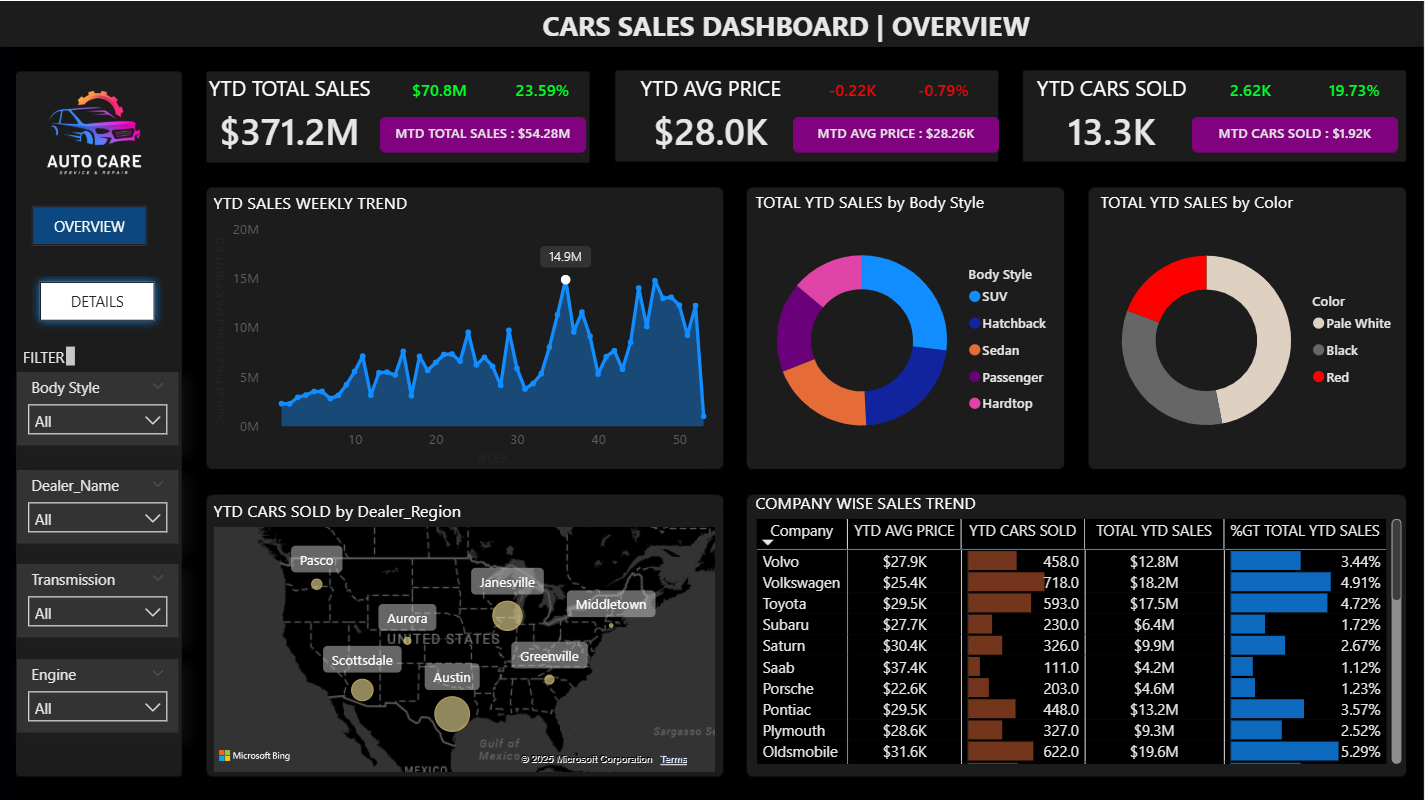

The page's visual inventory and layout, read from the dashboard file:
{"tool":"powerbi","page":{"name":"OVERVIEW","canvas":[1280,720],"ordinal":0},"visuals":[{"type":"card","title":"YTD TOTAL SALES","fields":{"Values":["MEASURES_.TOTAL YTD SALES"]},"box":[173.1,65.2,177,77.8],"z":0},{"type":"card","fields":{"Values":["MEASURES_.SALES DIFFERENCE"]},"box":[343.3,59.3,107,44.7],"z":1000},{"type":"card","fields":{"Values":["MEASURES_.YOY SALES GROWTH"]},"box":[435.7,59.3,107,44.7],"z":2000},{"type":"card","fields":{"Values":["MEASURES_.MTD KPI"]},"box":[343.3,104.1,184.8,32.1],"z":3000},{"type":"card","title":"YTD AVG PRICE","fields":{"Values":["MEASURES_.YTD AVG PRICE"]},"box":[551.5,65.2,177,77.8],"z":4000},{"type":"card","fields":{"Values":["MEASURES_.AVG PRICE DIFFERENCE"]},"box":[713.9,59.3,107,44.7],"z":5000},{"type":"card","fields":{"Values":["MEASURES_.YOY AVG PRICE GROWTH"]},"box":[795.6,59.3,107,44.7],"z":6000},{"type":"card","fields":{"Values":["MEASURES_.MTD AVG PRICE KPI"]},"box":[713.9,104.1,184.8,32.1],"z":7000},{"type":"card","title":"YTD CARS SOLD","fields":{"Values":["MEASURES_.YTD CARS SOLD"]},"box":[911.4,65.2,177,77.8],"z":8000},{"type":"card","fields":{"Values":["MEASURES_.CARS SOLD DIFF"]},"box":[1070.9,59.3,107,44.7],"z":9000},{"type":"card","fields":{"Values":["MEASURES_.YOY CARS SOLD GROWTH"]},"box":[1164.3,59.3,107,44.7],"z":10000},{"type":"card","fields":{"Values":["MEASURES_.MTD CARS SOLD KPI"]},"box":[1071.8,104.1,184.8,31.6],"z":11000},{"type":"areaChart","title":"YTD SALES WEEKLY TREND","fields":{"Category":["Calender Date.WEEK"],"Y":["Sum(car_data.Price ($))","MEASURES_.MAX POINT FOR AREA CHART"]},"box":[188.1,170.1,460,250.2],"z":12000},{"type":"donutChart","fields":{"Category":["car_data.Body Style"],"Y":["MEASURES_.TOTAL YTD SALES"]},"box":[675.5,170,280,250],"z":13000},{"type":"donutChart","fields":{"Y":["MEASURES_.TOTAL YTD SALES"],"Category":["car_data.Color"]},"box":[984.5,170,280,250],"z":14000},{"type":"map","fields":{"Category":["car_data.Dealer_Region"],"Size":["MEASURES_.YTD CARS SOLD"]},"box":[188.5,447.1,459.7,249.6],"z":14001},{"type":"tableEx","title":"COMPANY WISE SALES TREND","fields":{"Values":["car_data.Company","MEASURES_.YTD AVG PRICE","MEASURES_.YTD CARS SOLD","MEASURES_.TOTAL YTD SALES","Divide(MEASURES_.TOTAL YTD SALES, ScopedEval(MEASURES_.TOTAL YTD SALES, []))"]},"box":[675.1,439.9,589.8,249.6],"z":14002},{"type":"textbox","box":[483.9,0,459.7,44],"z":14003},{"type":"slicer","fields":{"Values":["car_data.Body Style"]},"box":[17.1,333.1,144.5,66.4],"z":14004},{"type":"slicer","fields":{"Values":["car_data.Dealer_Name"]},"box":[17.1,421,144.5,66.4],"z":14005},{"type":"slicer","fields":{"Values":["car_data.Transmission"]},"box":[17.1,505.4,144.5,66.4],"z":14006},{"type":"slicer","fields":{"Values":["car_data.Engine"]},"box":[17.1,590.7,144.5,66.4],"z":14007},{"type":"textbox","box":[17.1,305.2,57.5,27.8],"z":14008},{"type":"pageNavigator","box":[29.6,183.1,119.4,112.2],"z":14009},{"type":"image","box":[11.7,44,149.9,149.9],"z":14010}]}

Visuals, with their boxes in screenshot pixels (x1, y1, x2, y2), scaled from the page's 1280x720 canvas onto the 1425x800 screenshot:
"YTD TOTAL SALES" card: pyautogui.locateOnScreen(193, 72, 390, 159)
card - MEASURES_.SALES DIFFERENCE: pyautogui.locateOnScreen(382, 66, 501, 116)
card - MEASURES_.YOY SALES GROWTH: pyautogui.locateOnScreen(485, 66, 604, 116)
card - MEASURES_.MTD KPI: pyautogui.locateOnScreen(382, 116, 588, 151)
"YTD AVG PRICE" card: pyautogui.locateOnScreen(614, 72, 811, 159)
card - MEASURES_.AVG PRICE DIFFERENCE: pyautogui.locateOnScreen(795, 66, 914, 116)
card - MEASURES_.YOY AVG PRICE GROWTH: pyautogui.locateOnScreen(886, 66, 1005, 116)
card - MEASURES_.MTD AVG PRICE KPI: pyautogui.locateOnScreen(795, 116, 1001, 151)
"YTD CARS SOLD" card: pyautogui.locateOnScreen(1015, 72, 1212, 159)
card - MEASURES_.CARS SOLD DIFF: pyautogui.locateOnScreen(1192, 66, 1311, 116)
card - MEASURES_.YOY CARS SOLD GROWTH: pyautogui.locateOnScreen(1296, 66, 1415, 116)
card - MEASURES_.MTD CARS SOLD KPI: pyautogui.locateOnScreen(1193, 116, 1399, 151)
"YTD SALES WEEKLY TREND" areaChart: pyautogui.locateOnScreen(209, 189, 722, 467)
donutChart - car_data.Body Style x MEASURES_.TOTAL YTD SALES: pyautogui.locateOnScreen(752, 189, 1064, 467)
donutChart - MEASURES_.TOTAL YTD SALES x car_data.Color: pyautogui.locateOnScreen(1096, 189, 1408, 467)
map - car_data.Dealer_Region x MEASURES_.YTD CARS SOLD: pyautogui.locateOnScreen(210, 497, 722, 774)
"COMPANY WISE SALES TREND" tableEx: pyautogui.locateOnScreen(752, 489, 1408, 766)
textbox: pyautogui.locateOnScreen(539, 0, 1050, 49)
slicer - car_data.Body Style: pyautogui.locateOnScreen(19, 370, 180, 444)
slicer - car_data.Dealer_Name: pyautogui.locateOnScreen(19, 468, 180, 542)
slicer - car_data.Transmission: pyautogui.locateOnScreen(19, 562, 180, 635)
slicer - car_data.Engine: pyautogui.locateOnScreen(19, 656, 180, 730)
textbox: pyautogui.locateOnScreen(19, 339, 83, 370)
pageNavigator: pyautogui.locateOnScreen(33, 203, 166, 328)
image: pyautogui.locateOnScreen(13, 49, 180, 215)
